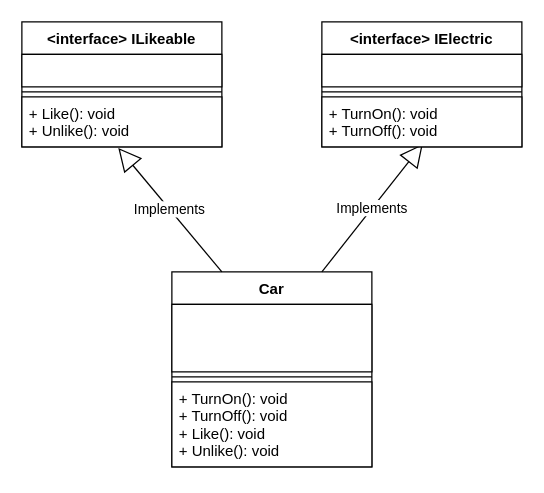
The diagram is 544 pixels wide and 493 high, and some of its shapes have lost their labels. Each missing label, with the centre of its shape:
"+ IsOn: bool" goes at point (421, 70).
"+ Likes: int" goes at point (121, 70).
"+ Model: string + IsOn: bool + Likes: int" goes at point (271, 337).
